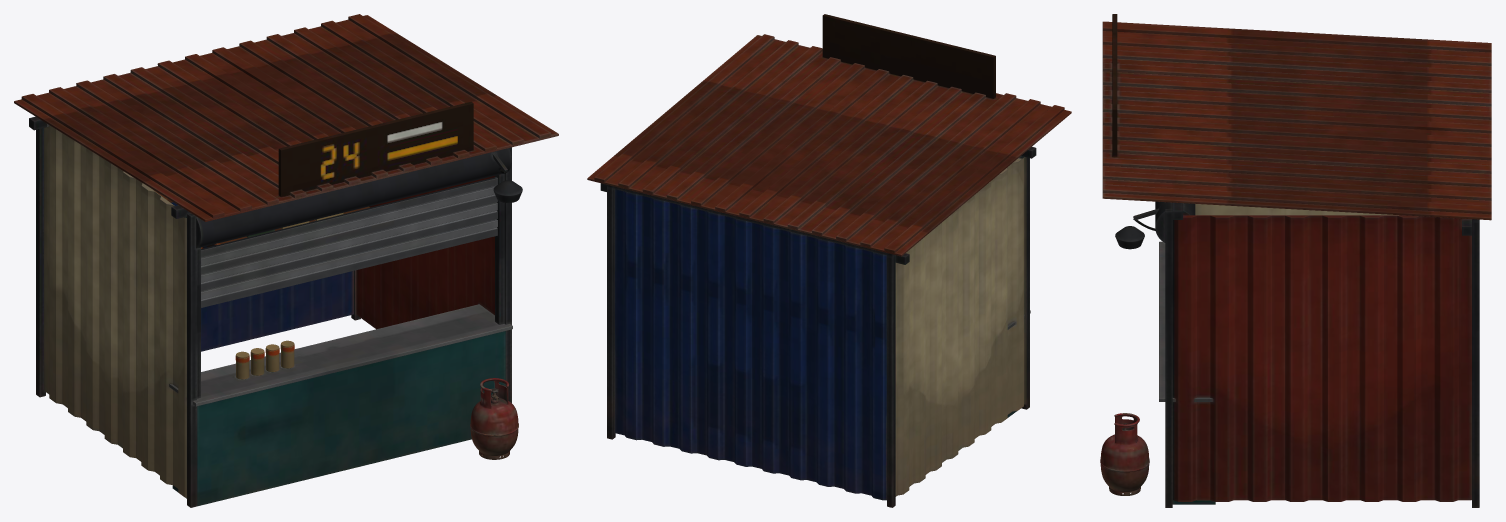
File: quiet_book_shack.glb
3 views of the same model, side by side, from view 1: azimuth 30°, elevation 25°; view 2: azimuth 150°, elevation 25°; view 3: azimuth 270°, elevation 25° (orthographic). The views are drawn at different scales.
Parts seen in each view (by area): view 1: quiet_book_shack; view 2: quiet_book_shack; view 3: quiet_book_shack.
Part boxes in pixels (bbox=[...]): quiet_book_shack: bbox=[14, 14, 558, 507]; quiet_book_shack: bbox=[587, 14, 1071, 507]; quiet_book_shack: bbox=[1100, 14, 1491, 507].
Bounding box in the file's own units: 3.3 × 3.22 × 3.12.
Materials: 1 (1 with a texture image).
